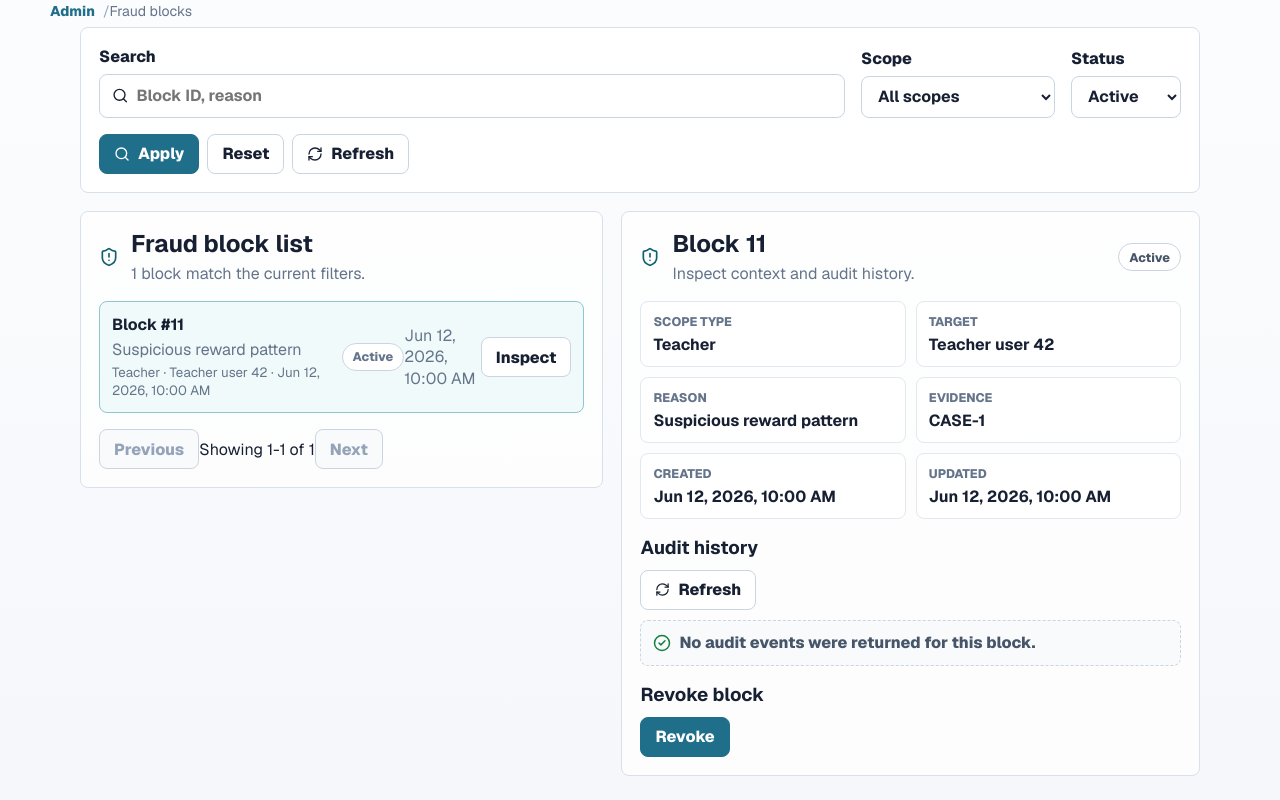
Test: AdminFraudBlocksRoute › revokes the selected active fraud block
This screenshot has width=1280, height=800.
(page scrolled)
Expected: the heading "Block 11" is shown, [672,228,766,259]
Click the button "Revoke". click: (685, 737)
box: [640,717,730,757]
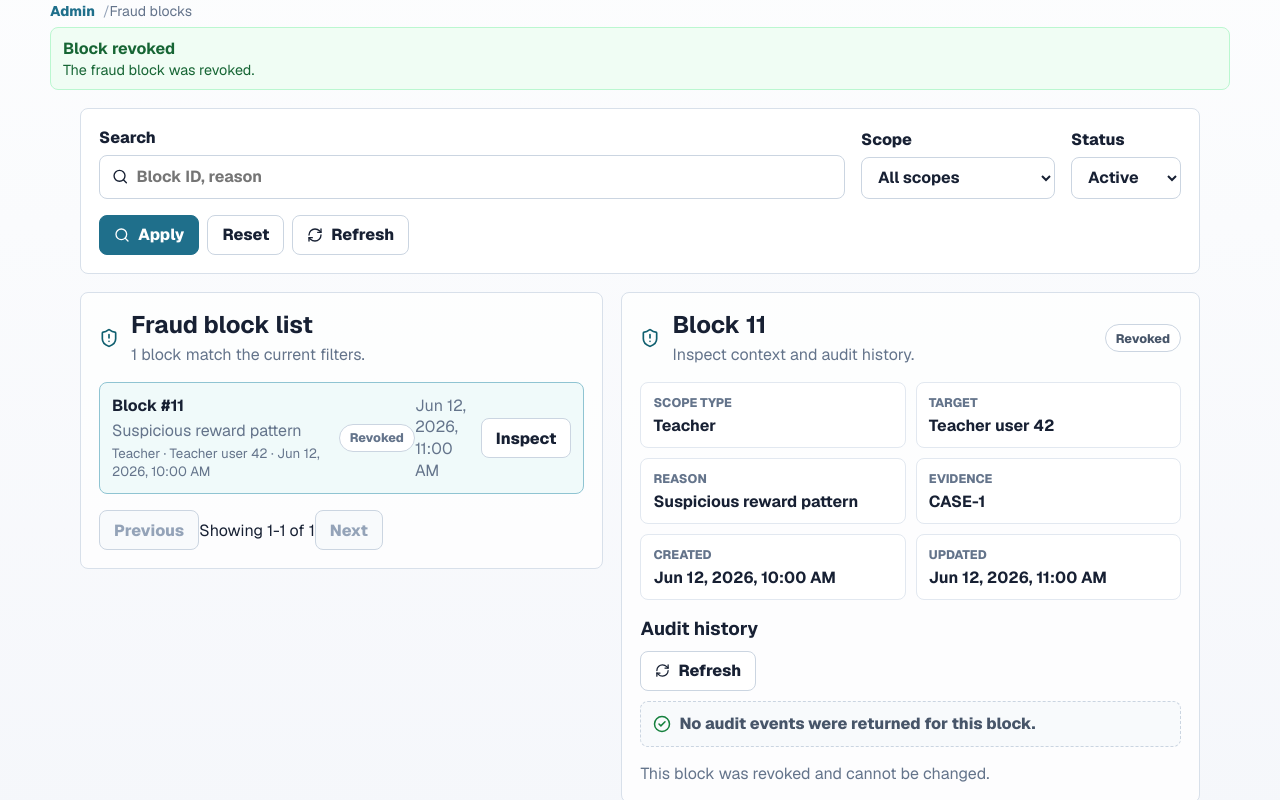
Now the text "Block revoked" is shown, box [63,38,175,59]
Now the text "This block was revoked and cannot be changed." is shown, box [640,763,989,784]
